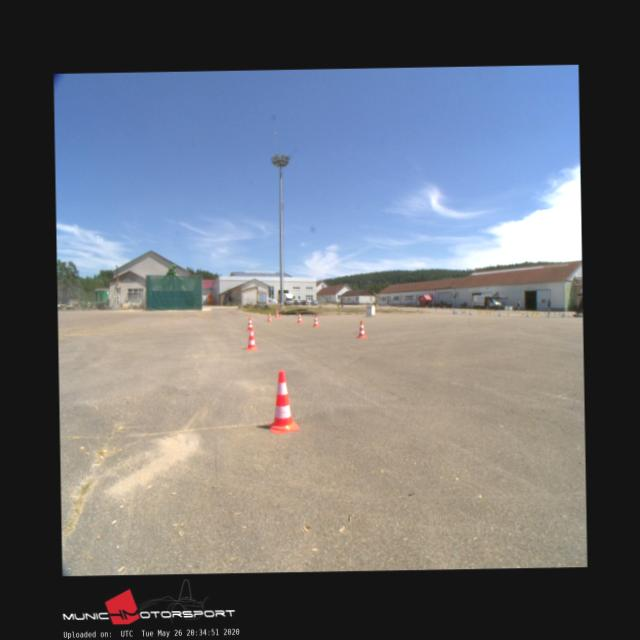large_orange_cone: (267, 370, 299, 432), (245, 328, 257, 348), (356, 320, 365, 338), (246, 316, 253, 329), (312, 314, 318, 326), (296, 312, 302, 323), (267, 311, 271, 321), (275, 309, 279, 318)
